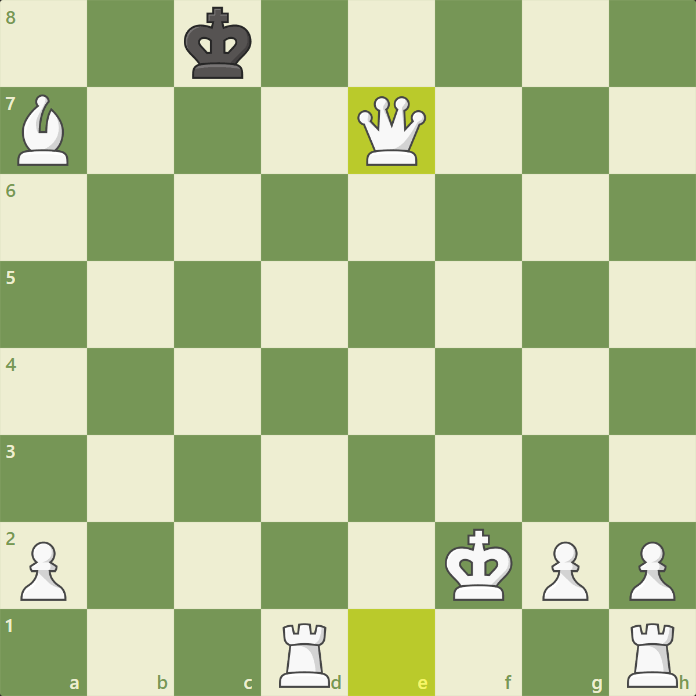B: (14, 92, 71, 169)
K: (443, 526, 514, 604)
P: (627, 540, 680, 604), (540, 539, 591, 603), (18, 539, 68, 604)
Q: (355, 93, 429, 169)
R: (622, 620, 684, 691), (278, 620, 333, 692)
k: (180, 4, 255, 83)
